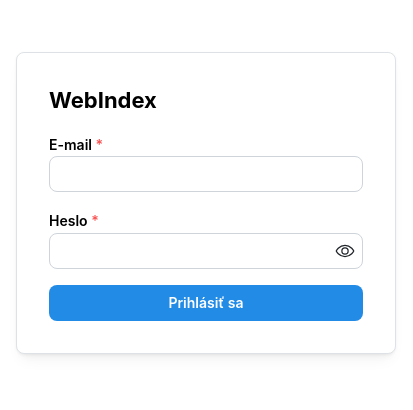
Test case: App › redirects to login when not signed in and shows the API error on a wrong password
Type "admin@example.com" into the field labelled "E-mail *" at (206, 174), box [49,156,363,192]
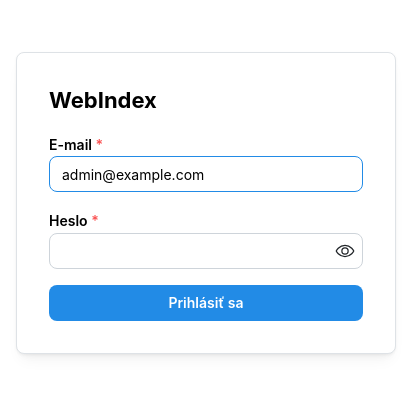
Type "zle-heslo" into the password field labelled "Heslo *" at (206, 251), box [50,234,362,268]
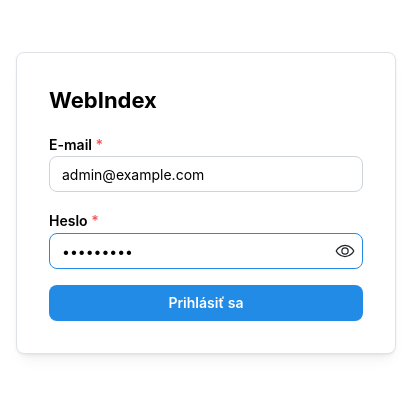
Click the button "Prihlásiť sa" at (206, 303), box [49,285,363,321]
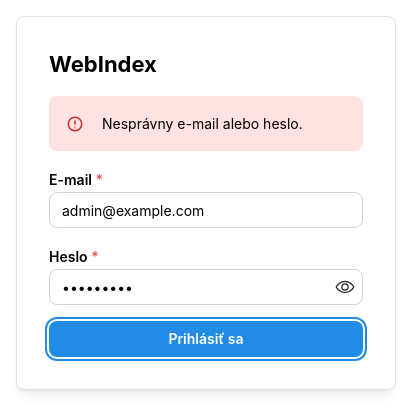
Result: the message reads "Nesprávny e-mail alebo heslo." at [102,115,303,132]
